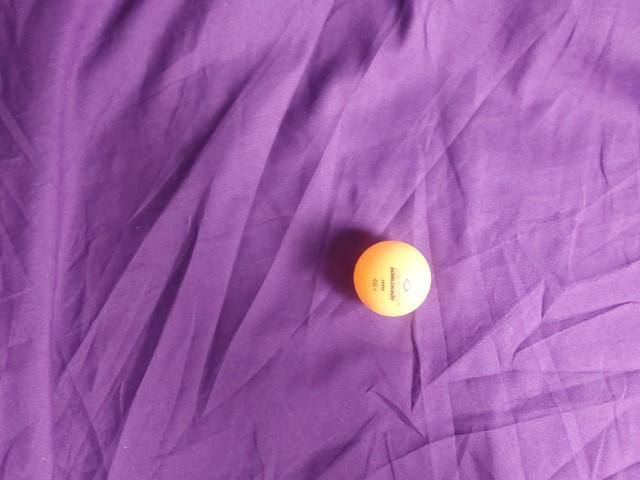oball: (199, 157, 295, 248)
